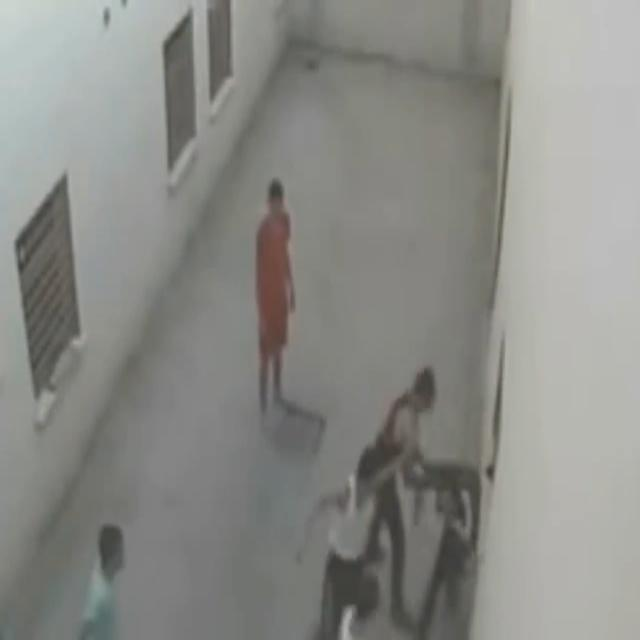fight: (320, 364, 438, 640), (375, 364, 470, 640)
